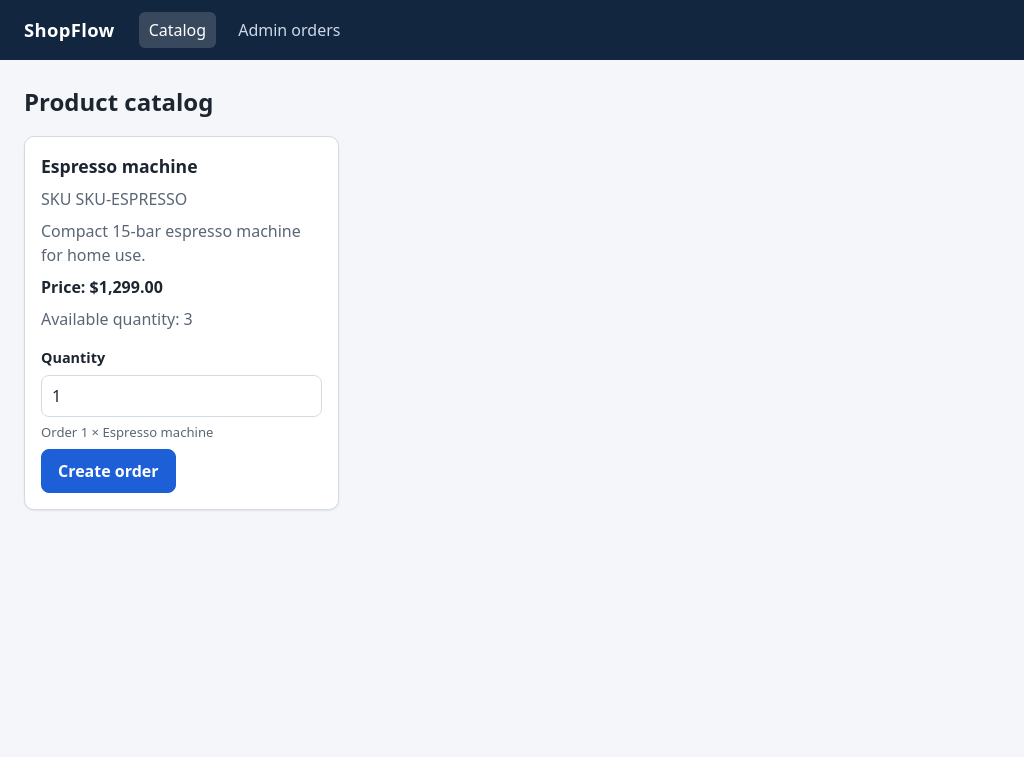
Test: CatalogPage › stores and reuses the demo customer identifier for order creation
expect the heading "Espresso machine" is shown: met, box [41,154,198,178]
What coordinates should you click on to do the following:
click the button "Create order"
I would click on:
 (108, 471)
Its box is [41,449,176,493].
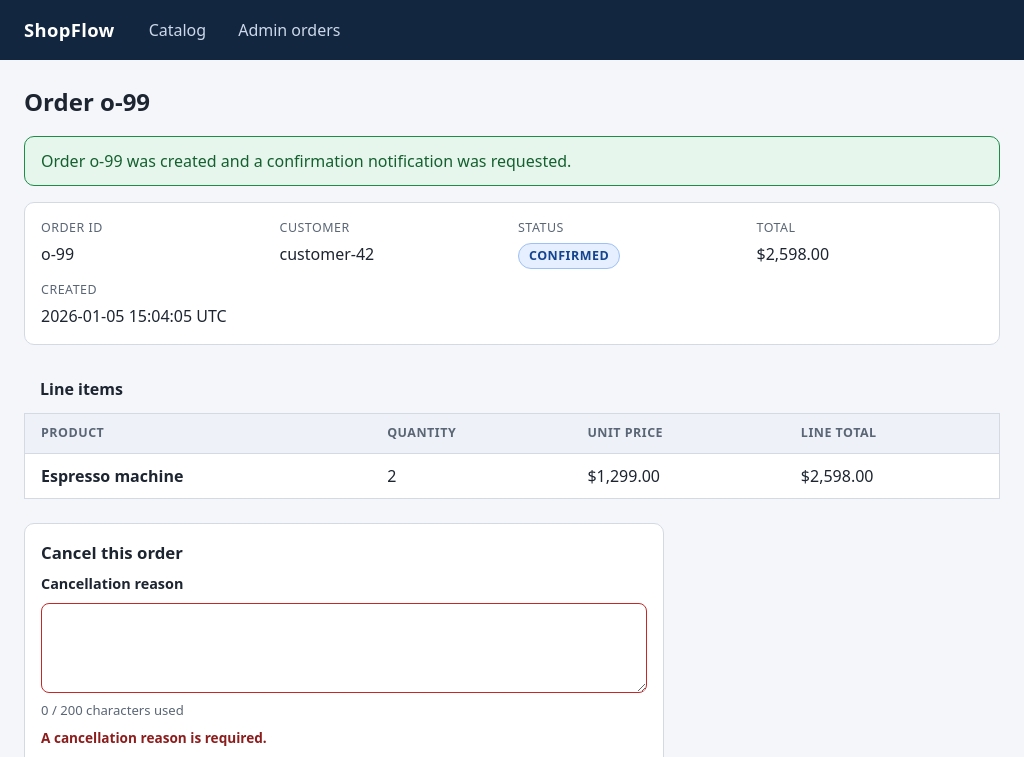
expect the heading "Order o-99" is shown: met, box [24,85,150,118]
